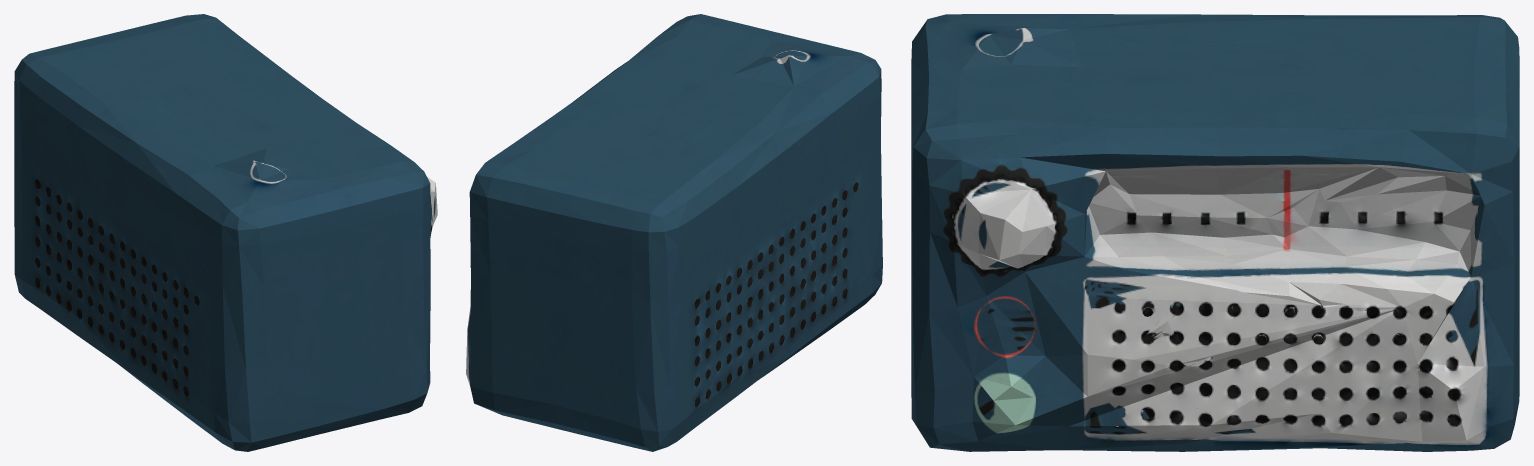
Rendered from radio.obj.
The picture shows the model from 3 angles, left to right: view 1: azimuth 30°, elevation 25°; view 2: azimuth 150°, elevation 25°; view 3: azimuth 270°, elevation 25°; orthographic projection. The views are drawn at different scales.
Parts seen in each view (by area): view 1: tripo_node_6c0af524-1ab1-4d38-9784-7704c6f1cfff; view 2: tripo_node_6c0af524-1ab1-4d38-9784-7704c6f1cfff; view 3: tripo_node_6c0af524-1ab1-4d38-9784-7704c6f1cfff.
Part boxes in pixels (left/top/right/bottom): tripo_node_6c0af524-1ab1-4d38-9784-7704c6f1cfff: left=14, top=14, right=437, bottom=451; tripo_node_6c0af524-1ab1-4d38-9784-7704c6f1cfff: left=466, top=14, right=882, bottom=451; tripo_node_6c0af524-1ab1-4d38-9784-7704c6f1cfff: left=911, top=14, right=1519, bottom=451.
Bounding box in the file's own units: 0.5979 × 0.6204 × 1.
